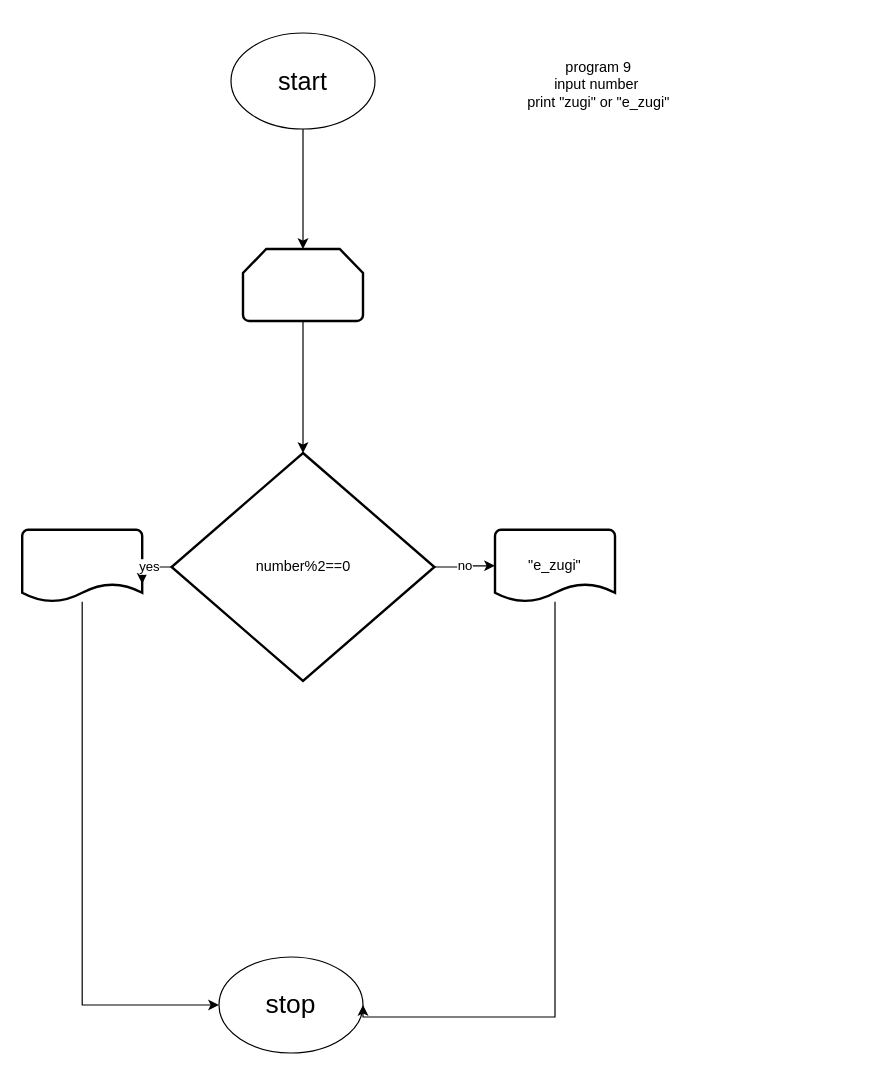
Some shapes in this 870 by 1074 pixel diagram are drawn without their labels. The shapes that lost their labels are listed below. From the top down, each one's centre as x and y in pixels, then its label:
point (302, 284): number
point (81, 565): "zugi"
